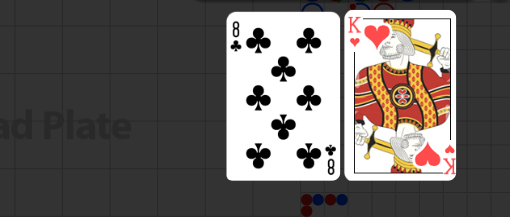8C: (229, 19, 243, 53)
